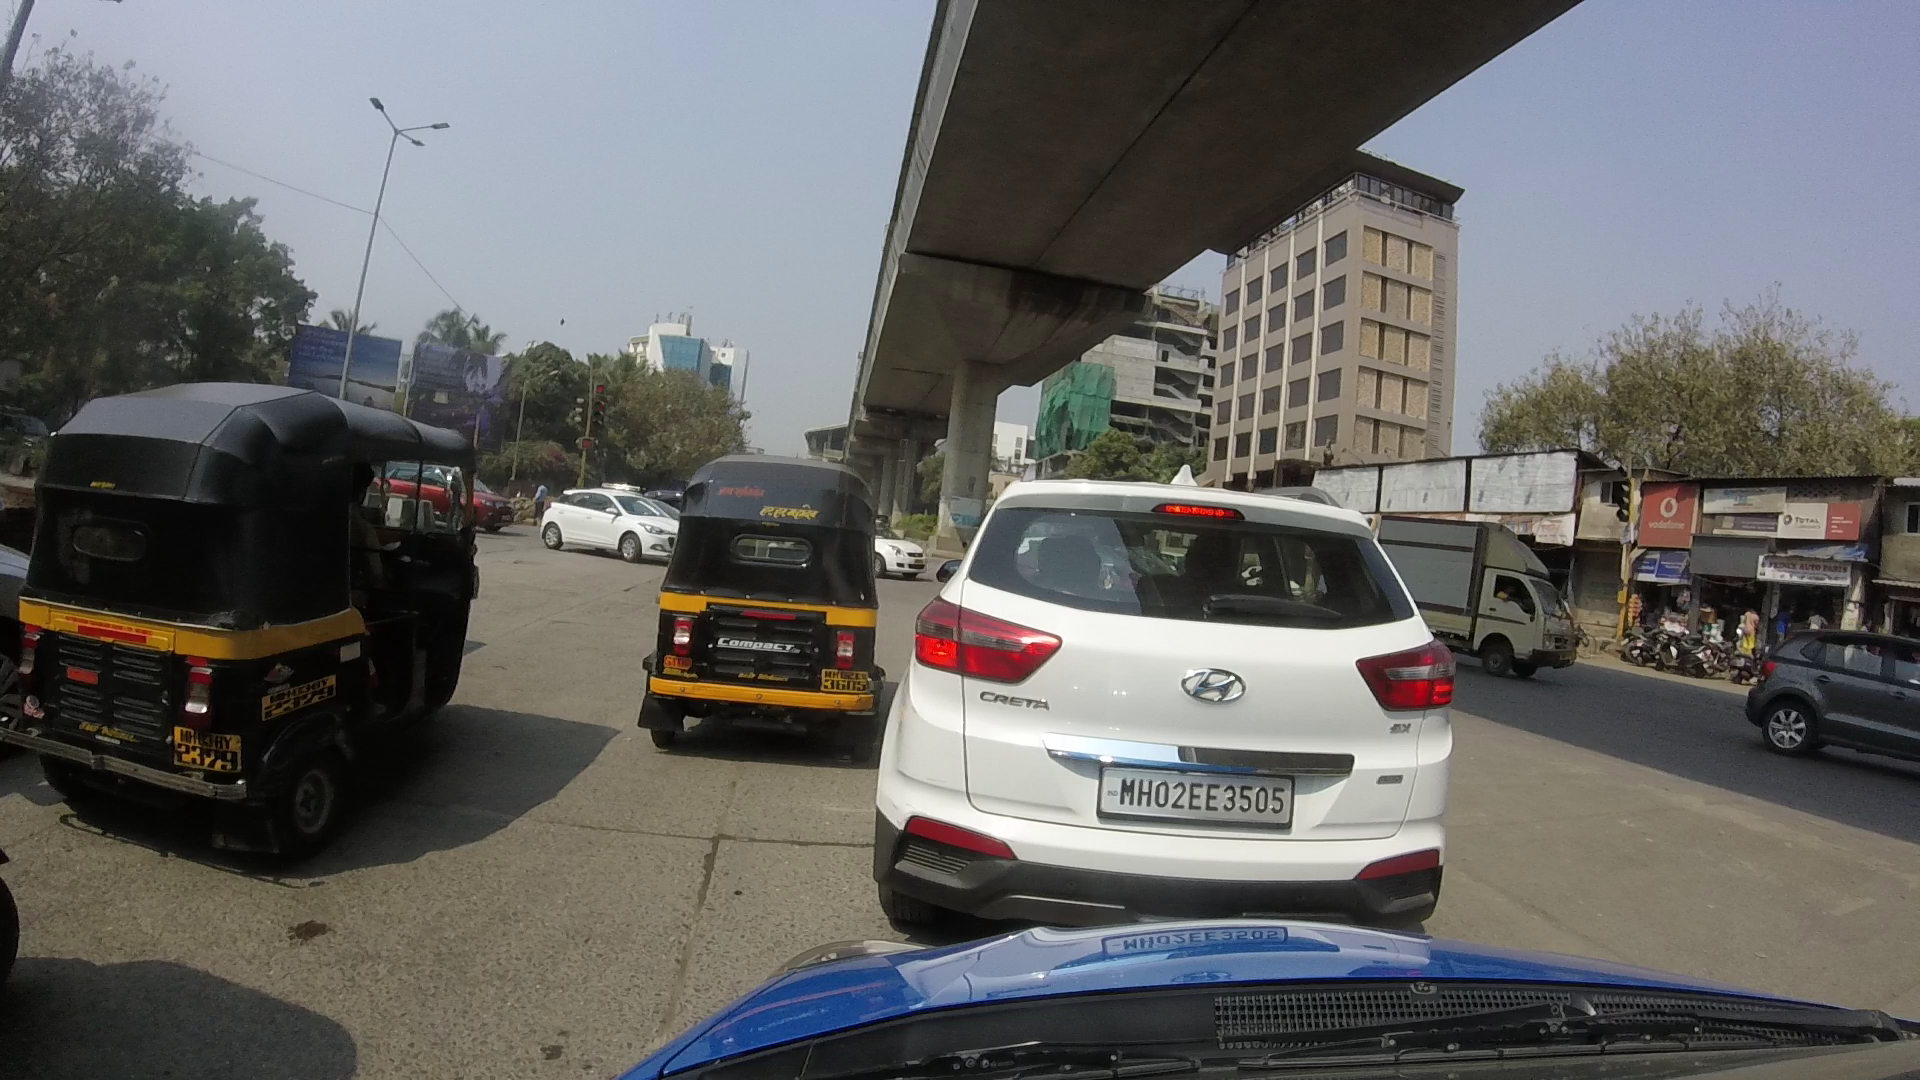car: (884, 481, 1460, 907), (1718, 572, 1917, 781), (504, 448, 676, 587)
rickshaw: (7, 331, 504, 862), (601, 419, 913, 775)
truck: (1383, 498, 1601, 678)
